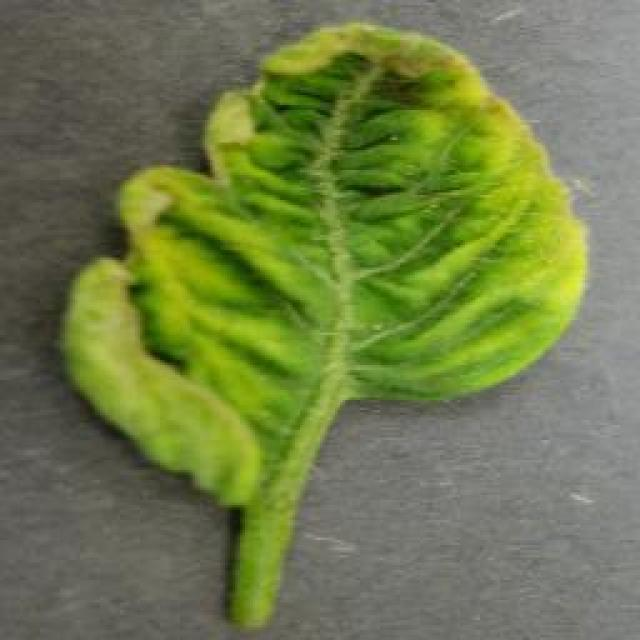Tomato yellow virus leaf: (49, 26, 594, 502)
